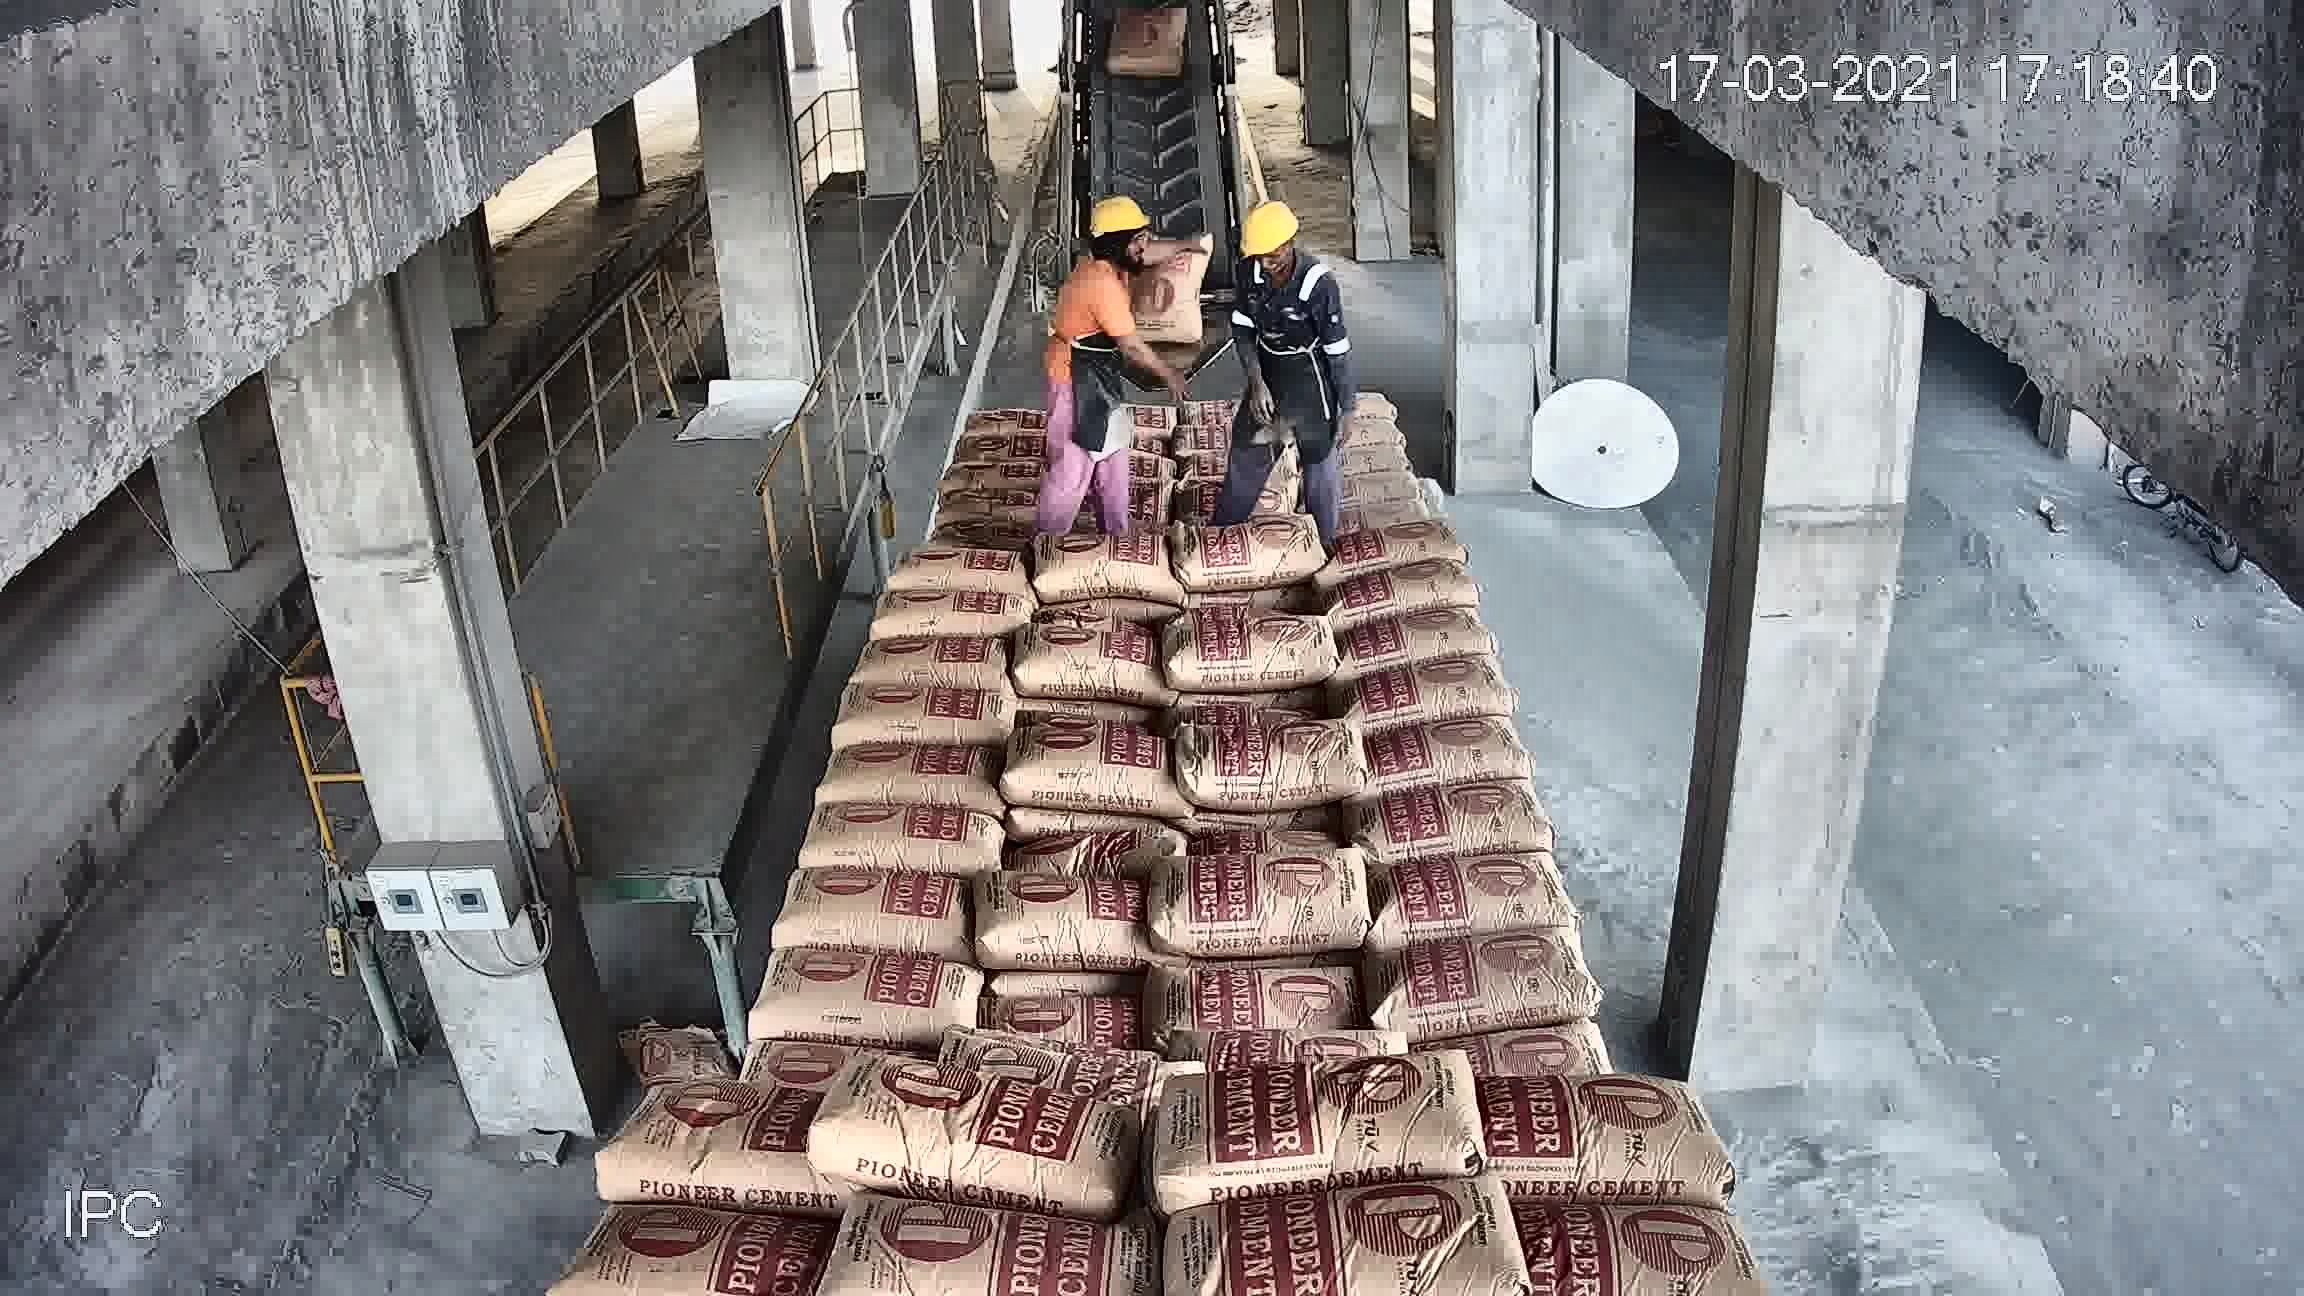bag: (1133, 229, 1209, 343), (1101, 11, 1195, 71)
bag_h: (802, 1055, 1154, 1201), (1154, 1041, 1465, 1195), (1483, 1078, 1742, 1198), (729, 949, 984, 1052), (1143, 840, 1375, 949), (589, 1087, 815, 1195), (1377, 935, 1593, 1036), (1377, 829, 1560, 945), (1177, 711, 1381, 812), (752, 864, 962, 951), (1006, 704, 1179, 809), (975, 870, 1157, 967), (1342, 696, 1535, 786), (1350, 779, 1568, 858), (786, 801, 1017, 870), (802, 742, 1017, 817), (826, 669, 1021, 745), (1188, 1008, 1391, 1081), (1155, 961, 1355, 1033), (1158, 619, 1336, 699), (1343, 641, 1521, 718), (949, 1041, 1174, 1101), (1310, 563, 1492, 630), (1434, 1010, 1605, 1079), (1169, 510, 1321, 587), (1337, 604, 1514, 668), (1305, 510, 1464, 578), (1010, 627, 1150, 703), (867, 581, 1046, 639), (1021, 812, 1188, 873), (853, 623, 1029, 682), (981, 999, 1143, 1062), (1033, 540, 1169, 606), (873, 543, 1041, 587), (1173, 465, 1290, 525), (921, 503, 1046, 551), (916, 456, 1059, 495), (1332, 489, 1427, 536), (934, 434, 1059, 468), (934, 479, 1043, 517), (949, 405, 1055, 434), (1317, 476, 1423, 505), (1332, 438, 1407, 476)
belt: (1070, 14, 1244, 340)
